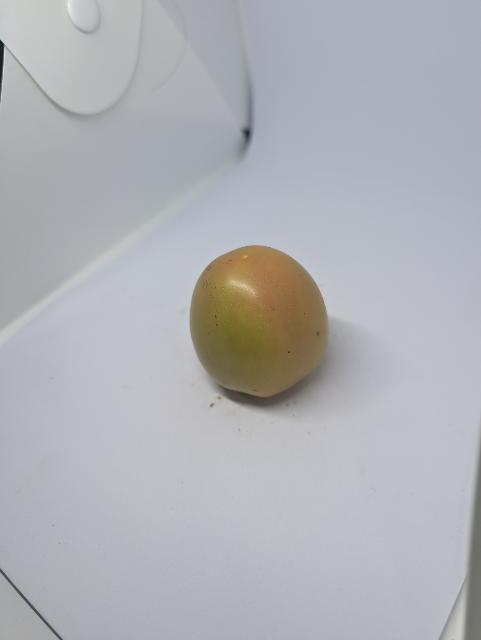turning: (185, 245, 332, 403)
